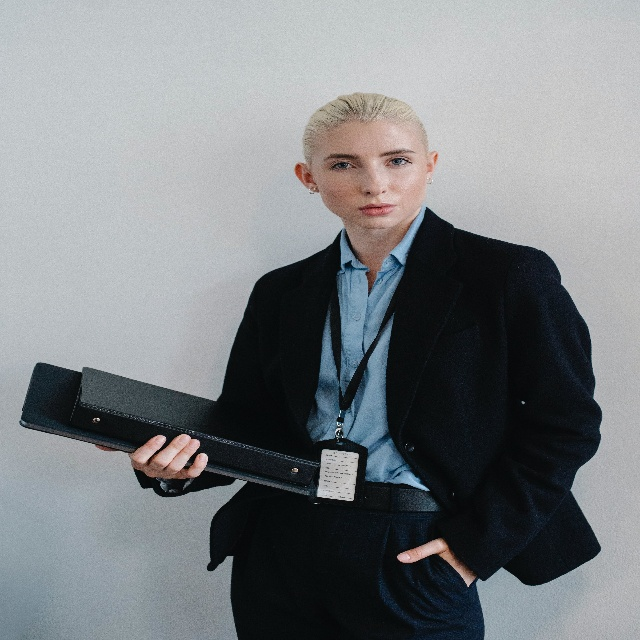Sin_guantes: (92, 431, 208, 480), (397, 534, 479, 595)
